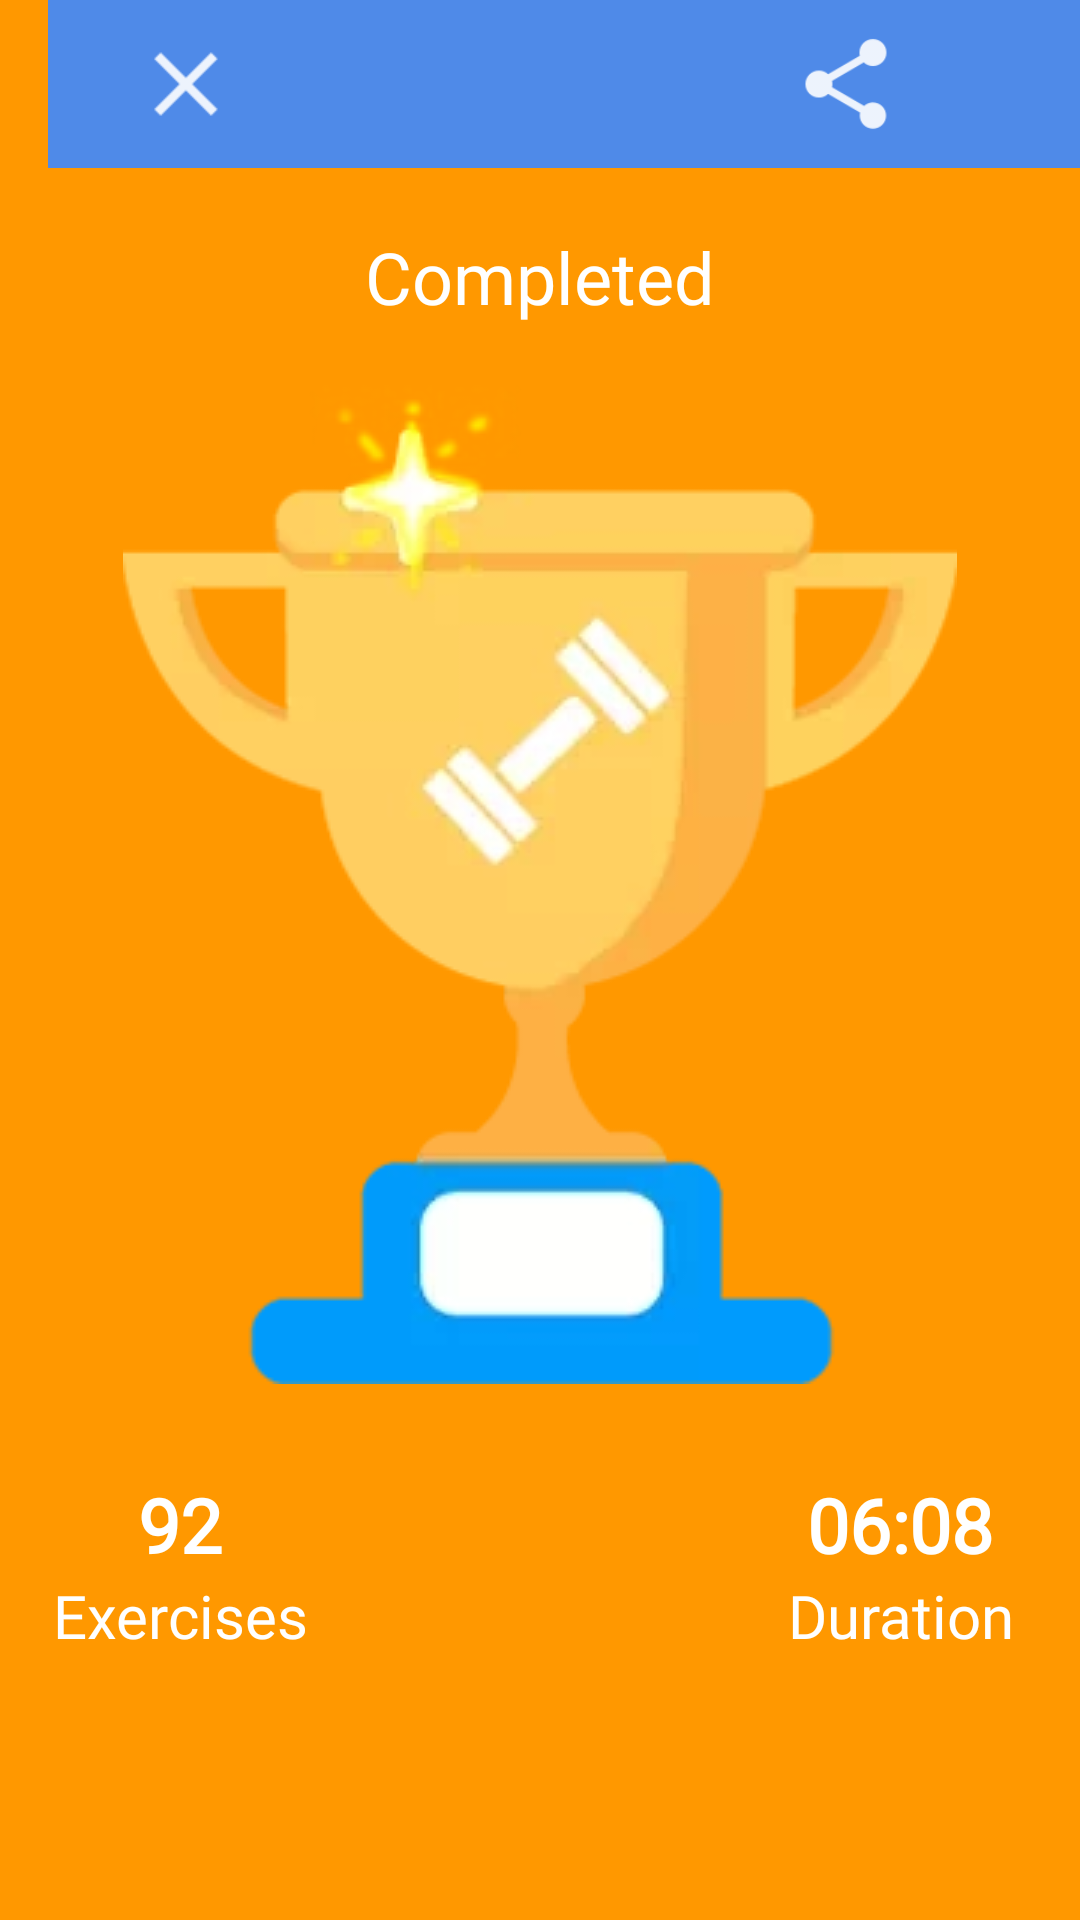

Point at icon controls on the screen. Image size 1080w x 1920h, points as [x,y].
neo clear: [186,84]
neo share: [846,84]
